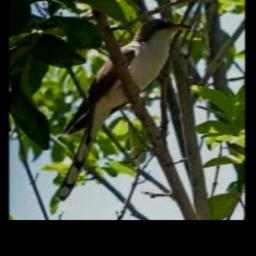Cuckoo: (55, 18, 192, 201)
